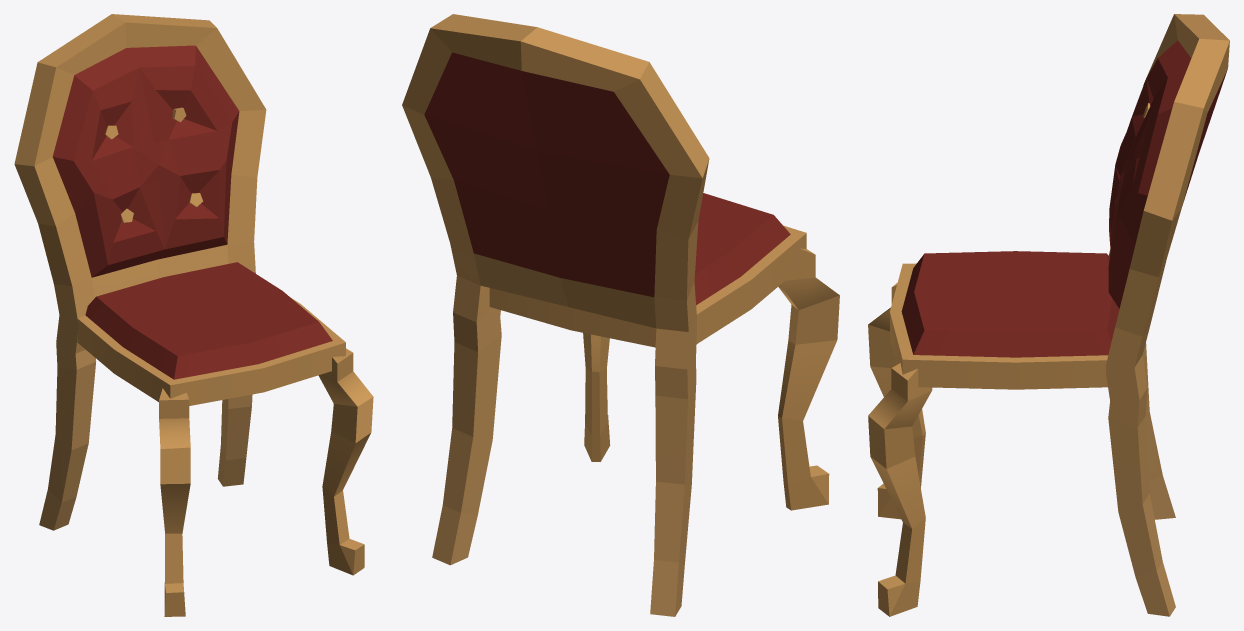
File: castle_chair.gltf
The picture shows the model from 3 angles, left to right: view 1: azimuth 30°, elevation 25°; view 2: azimuth 150°, elevation 25°; view 3: azimuth 270°, elevation 25°; orthographic projection. The views are drawn at different scales.
Visible parts, largest first — view 1: castle_chair; view 2: castle_chair; view 3: castle_chair.
Part boxes in pixels (left/top/right/bottom): castle_chair: left=14, top=14, right=373, bottom=616; castle_chair: left=402, top=14, right=839, bottom=616; castle_chair: left=868, top=14, right=1229, bottom=616.
Bounding box in the file's own units: 0.6131 × 1.11 × 0.6981.
1 material, 1 textured.
